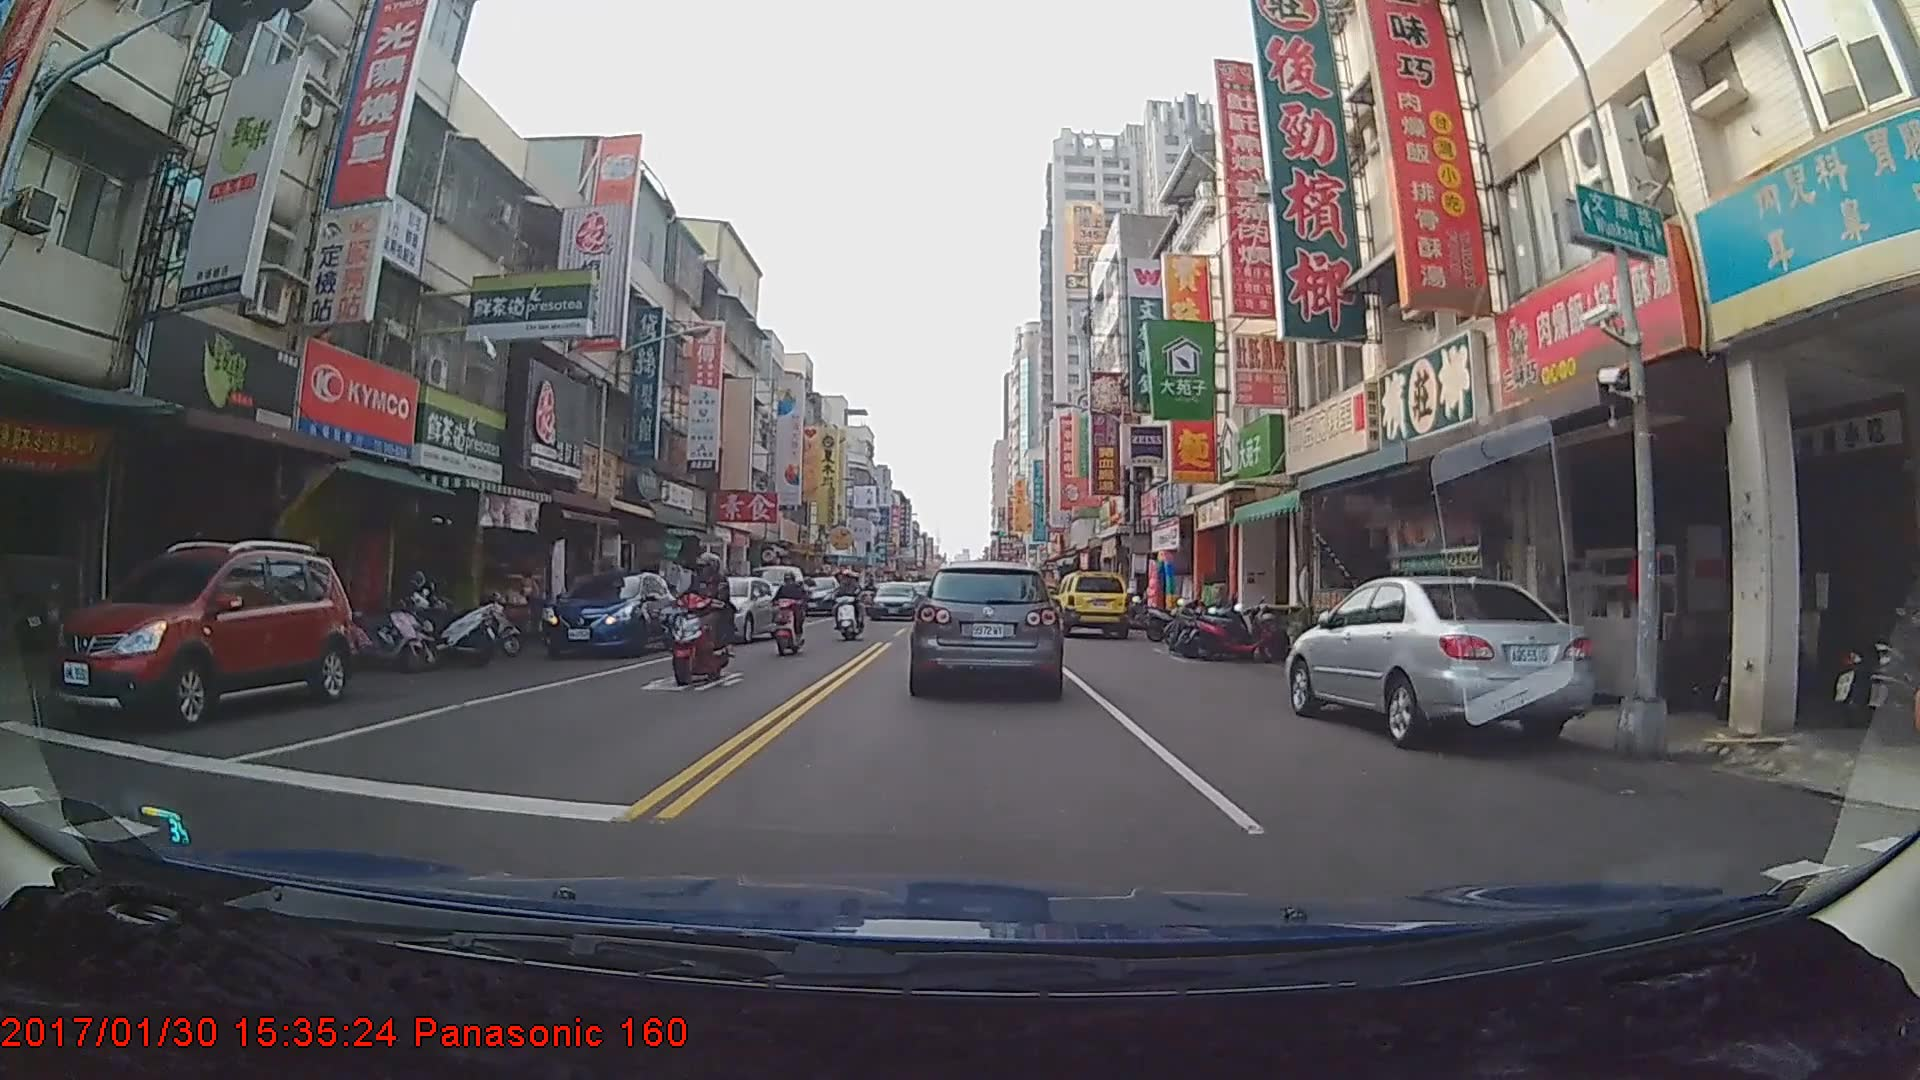rider: (667, 549, 737, 693), (769, 569, 808, 656), (829, 573, 865, 648)
vehicle: (49, 540, 350, 729), (1282, 570, 1597, 749), (909, 560, 1062, 697), (537, 569, 683, 657), (670, 574, 786, 642), (1052, 567, 1129, 636), (747, 564, 806, 621), (866, 579, 923, 620)
